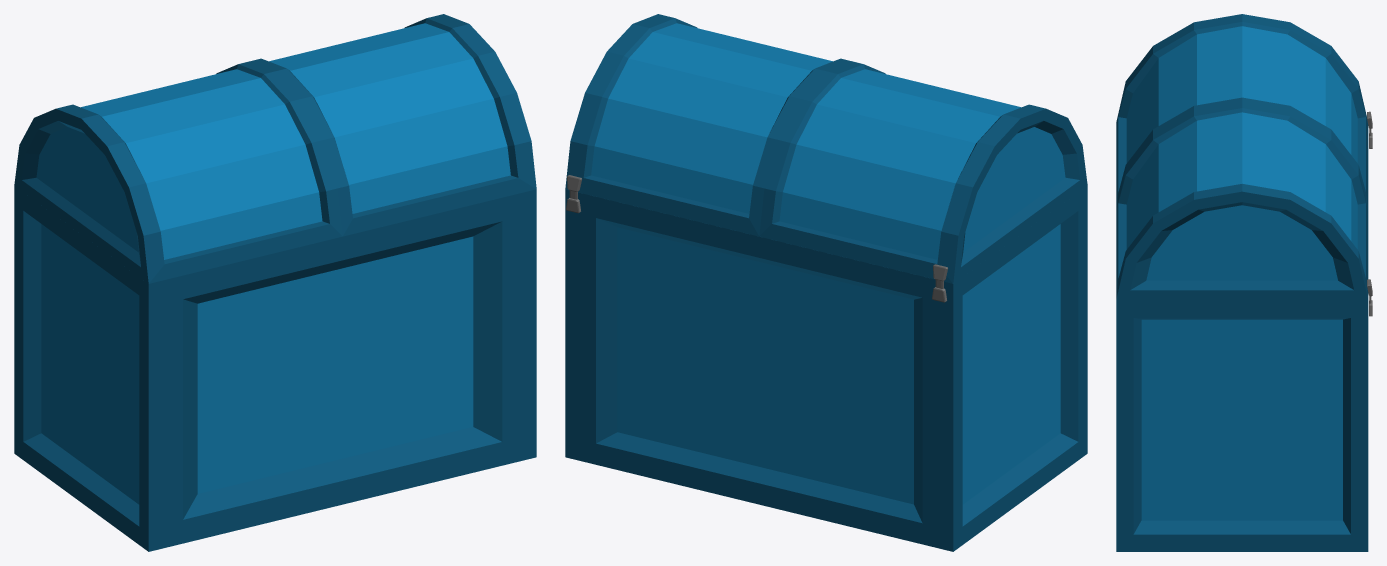
File: chest_type_01.fbx
3 views of the same model, side by side, from view 1: azimuth 30°, elevation 25°; view 2: azimuth 150°, elevation 25°; view 3: azimuth 270°, elevation 25° (orthographic). The views are drawn at different scales.
Visible parts, largest first — view 1: chest_type_01; view 2: chest_type_01; view 3: chest_type_01.
Boxes of the visible parts, x1,y1,x2,y2 form: chest_type_01: (14, 14, 536, 551); chest_type_01: (565, 14, 1087, 551); chest_type_01: (1116, 14, 1372, 551).
Size of the model in its own units: 60 by 56.76 by 36.63.
